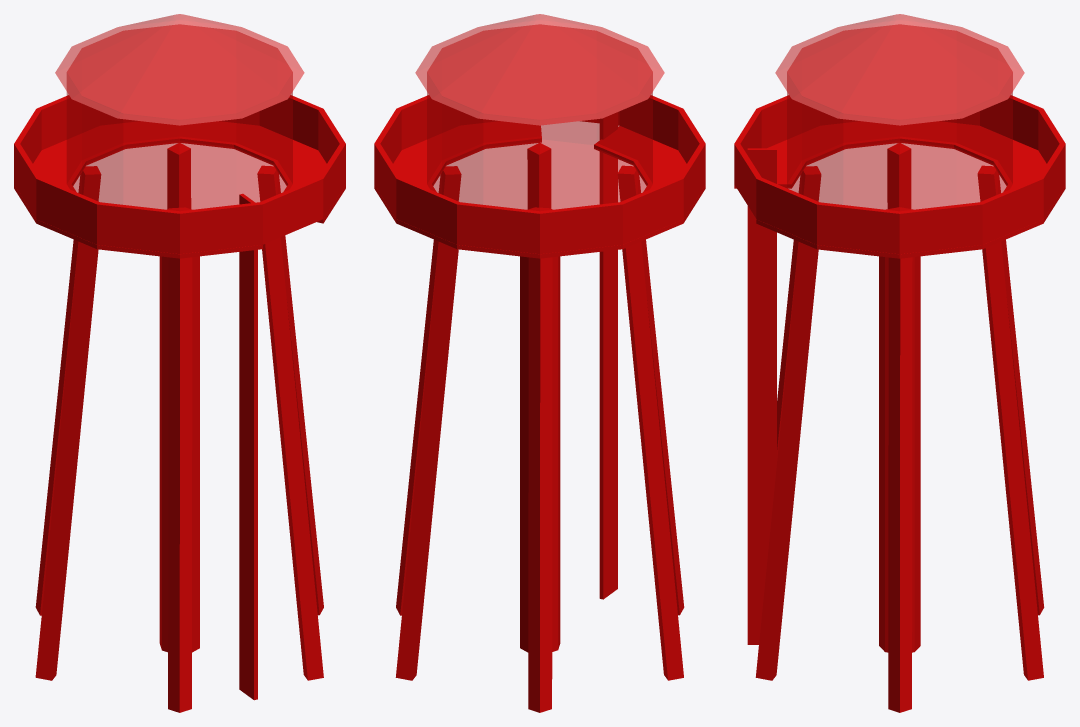
Rendered from SM_Bld_WaterTower_01_Collision.fbx.
3 views of the same model, side by side, from view 1: azimuth 30°, elevation 25°; view 2: azimuth 150°, elevation 25°; view 3: azimuth 270°, elevation 25° (orthographic).
Visible parts, largest first — view 1: SM_Bld_WaterTower_01_Collision; view 2: SM_Bld_WaterTower_01_Collision; view 3: SM_Bld_WaterTower_01_Collision.
Part boxes in pixels (x1,y1,x2,y2): SM_Bld_WaterTower_01_Collision: (14,14,345,712); SM_Bld_WaterTower_01_Collision: (374,14,705,712); SM_Bld_WaterTower_01_Collision: (734,14,1065,712).
Bounding box in the file's own units: 598 × 1247 × 596.
